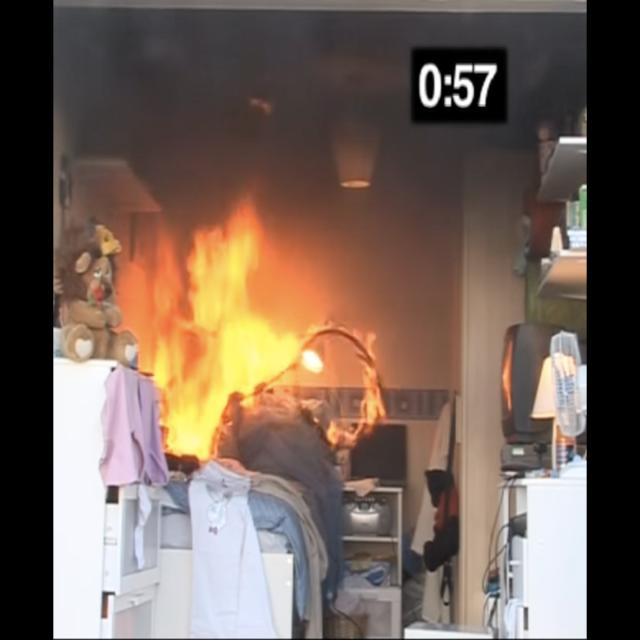Fogo: (112, 185, 396, 519)
